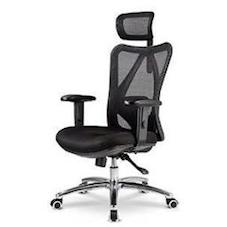chair: (39, 4, 194, 222)
